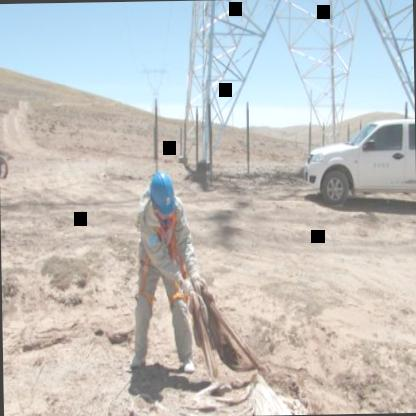helmet: (146, 166, 175, 218)
